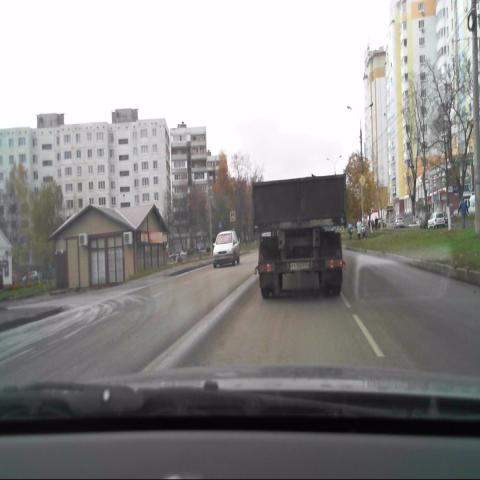2_1: (359, 174, 367, 187)
5_19_1: (229, 210, 236, 221)
